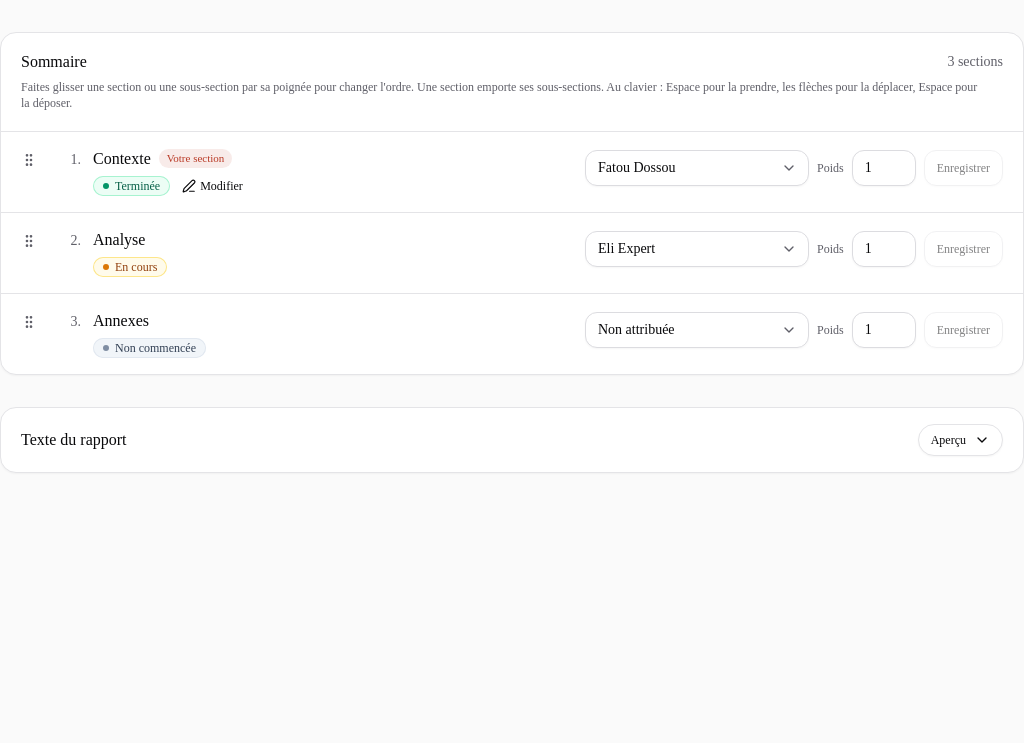
Scenario: MasterReport for a manager › reloads the page data when another session changed the list
The image size is (1024, 743).
Click the button with aria-label "Aperçu du texte du rapport".
click(960, 440)  # box [918,424,1003,456]
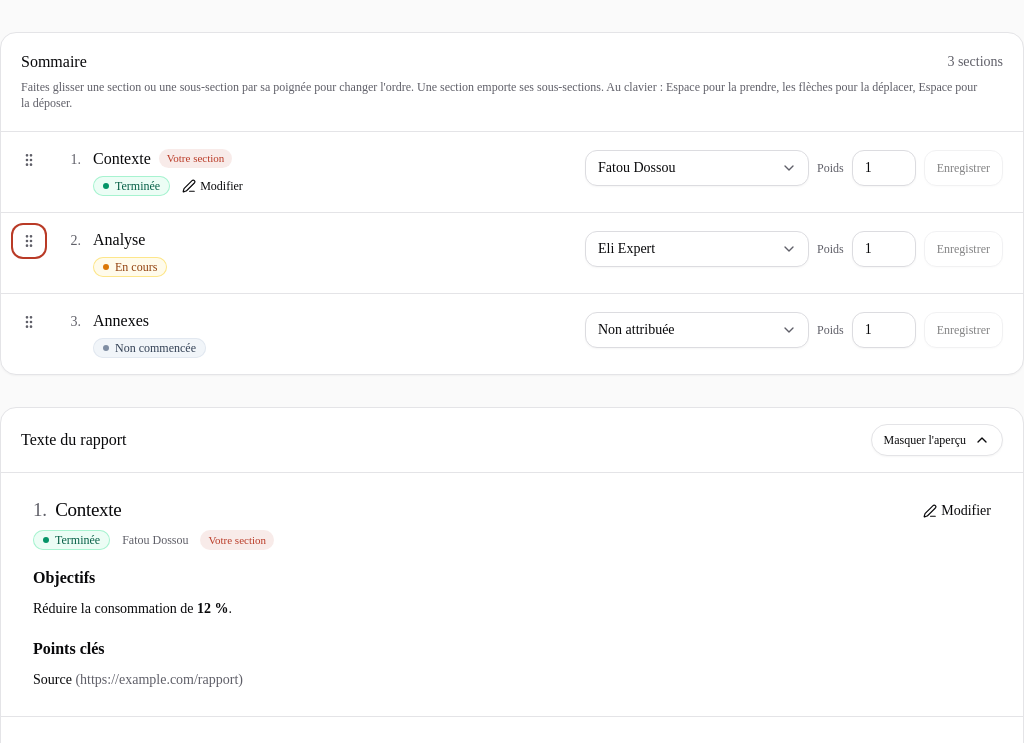
Press Space in the button named "Déplacer la section Analyse", box [13,225,45,257]
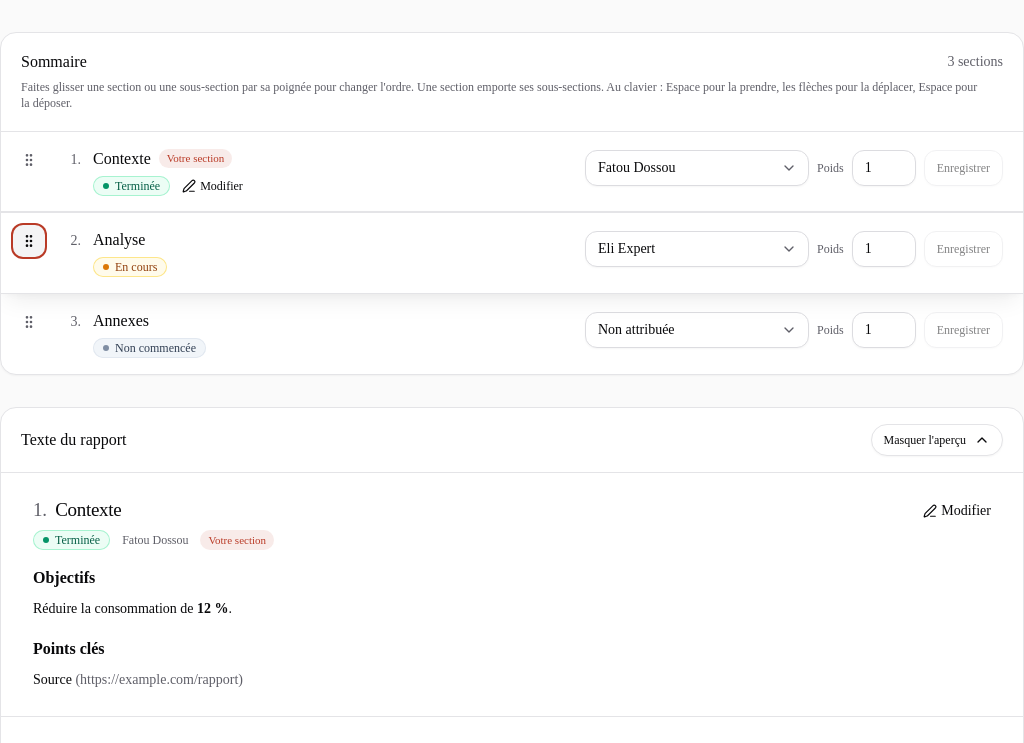
Press ArrowDown
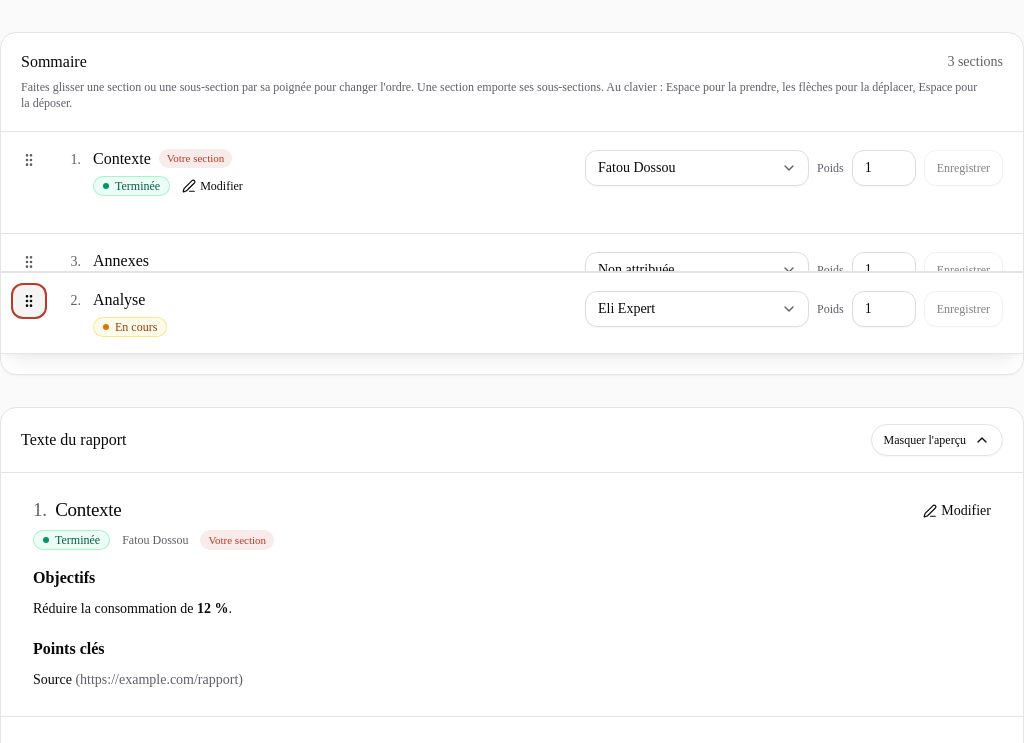
Press Space
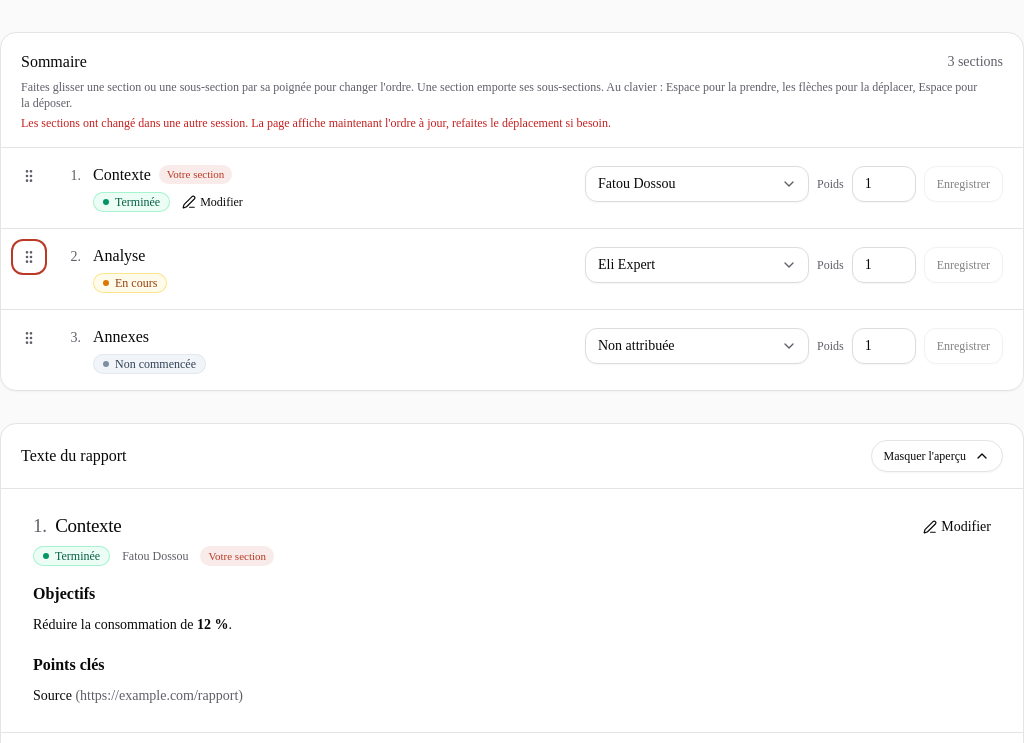
Expected: the message shows "Les sections ont changé dans une autre session", [21,116,611,130]
